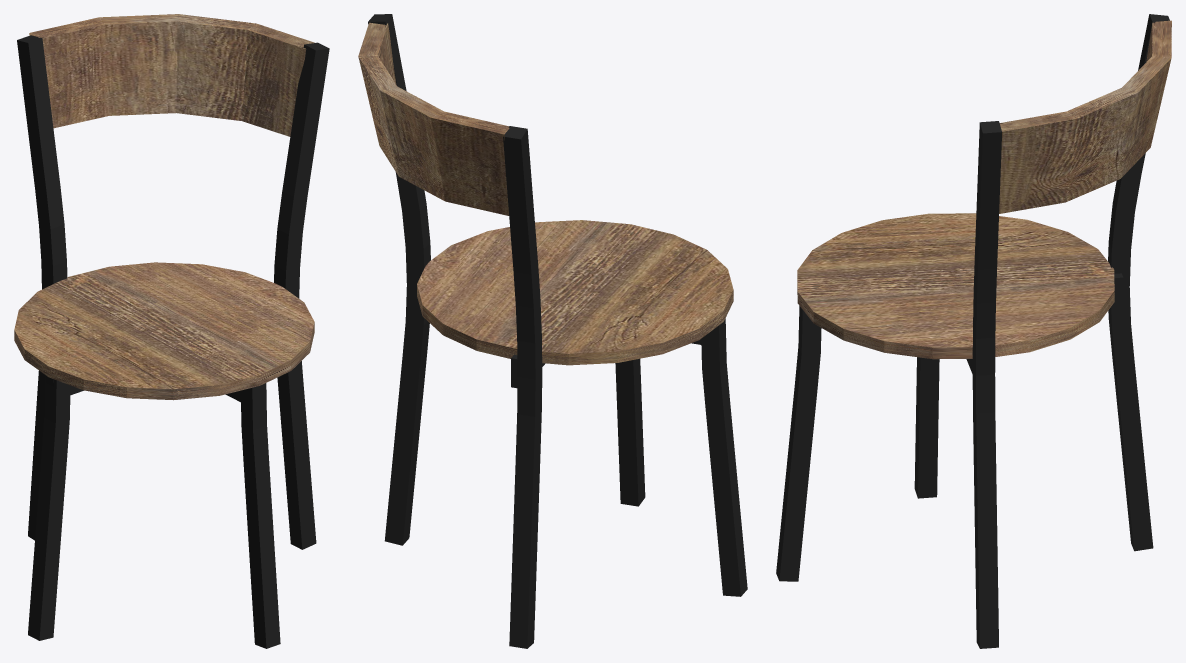
File: chair_wood&metal.fbx
3 renders of one model, left to right at view 1: azimuth 30°, elevation 25°; view 2: azimuth 150°, elevation 25°; view 3: azimuth 270°, elevation 25°, orthographic. The views are drawn at different scales.
Visible parts, largest first — view 1: Chair; view 2: Chair; view 3: Chair.
Part boxes in pixels (x1,y1,x2,y2): Chair: (14,14,329,648); Chair: (358,14,747,648); Chair: (776,14,1171,648).
Size of the model in its own units: 61.61 by 89.7 by 60.94.
Materials: 2 (1 with a texture image).
